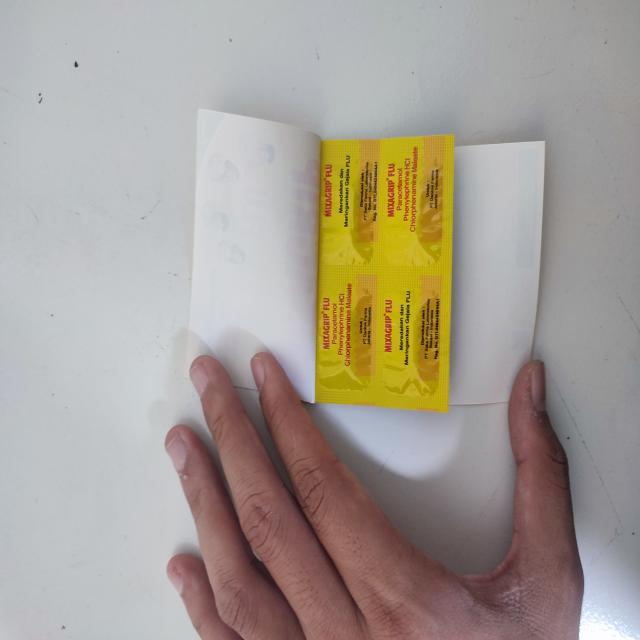B3: (185, 105, 544, 414)
